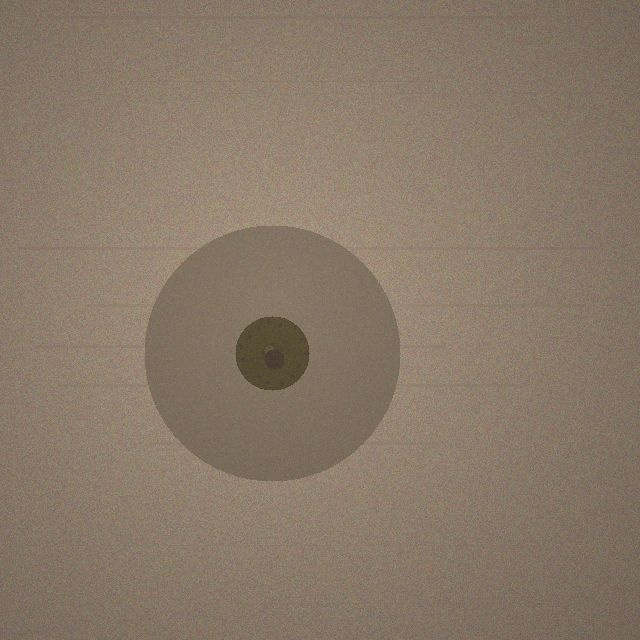cold_weld: (144, 225, 400, 481)
